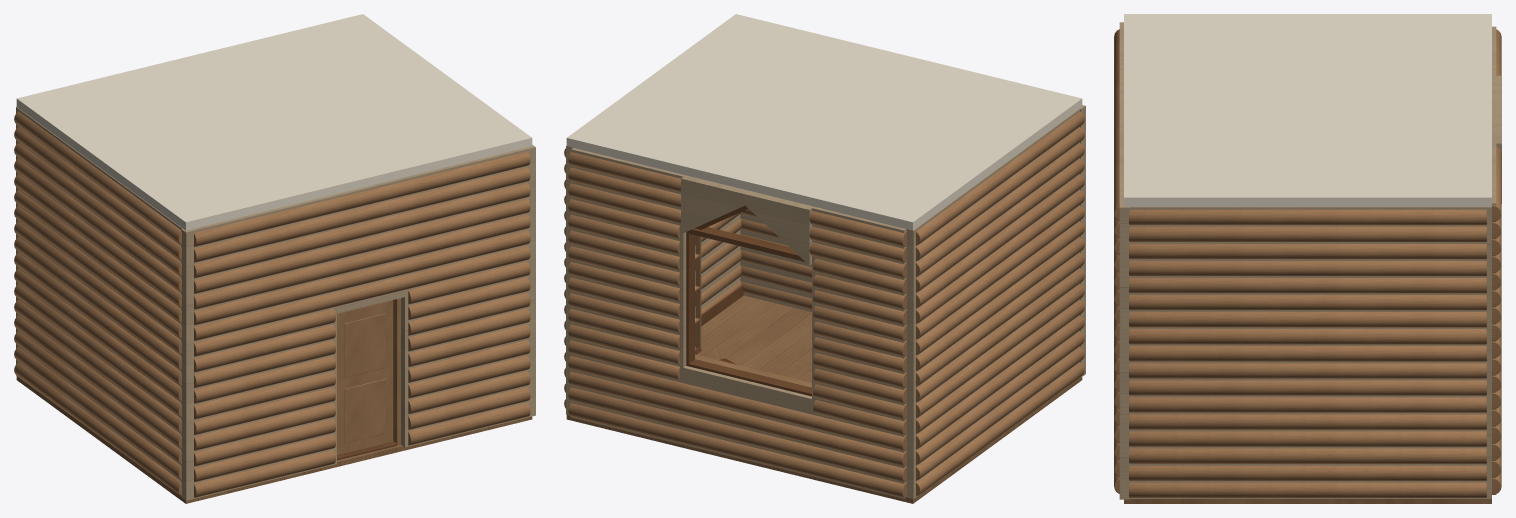
File: woodland-study.glb
3 views of the same model, side by side, from view 1: azimuth 30°, elevation 25°; view 2: azimuth 150°, elevation 25°; view 3: azimuth 270°, elevation 25° (orthographic). The views are drawn at different scales.
Visible parts, largest first — view 1: Study_Ceiling, Cabin_Door_Log.023, Cabin_Door_Log.008, Cabin_Door_Log.021, Study_DoorWall, Cabin_Door_Log.018, Study_DoorWall.001, Cabin_Door_Log.004, Cabin_Door_Log.014, Cabin_Door_Log, Cabin_Side_Log.026, Cabin_Side_Log.008 (+14 smaller); view 2: Study_Ceiling, Cabin_Window_Log, Cabin_Window_Log.002, Study_Floor, Cabin_Side_Log.008, Cabin_Side_Log.026, Study_SideWall, Study_WindowWallSide.001, Cabin_Side_Log, Cabin_Side_Log.014, Cabin_Side_Log.018, Cabin_Side_Log.022 (+31 smaller); view 3: Study_Ceiling, Cabin_Side_Log.027, Cabin_Side_Log.009, Study_SideWall.001, Cabin_Side_Log.005, Cabin_Side_Log.015, Cabin_Side_Log.019, Cabin_Side_Log.023, Cabin_Side_Log.001, Cabin_Side_Log.033, Study_DoorWall.001, Study_Floor (+5 smaller).
Boxes of the visible parts, x1,y1,x2,y2 form: Study_Ceiling: (16,14,532,230); Cabin_Door_Log.023: (194,167,530,293); Cabin_Door_Log.008: (194,308,530,435); Cabin_Door_Log.021: (194,214,530,325); Study_DoorWall: (181,194,336,500); Cabin_Door_Log.018: (194,245,530,356); Study_DoorWall.001: (401,145,535,447); Cabin_Door_Log.004: (194,355,530,466); Cabin_Door_Log.014: (194,277,530,388); Cabin_Door_Log: (194,387,530,497); Cabin_Side_Log.026: (14,127,181,291); Cabin_Side_Log.008: (14,268,181,433); Study_Ceiling: (566,14,1082,230); Cabin_Window_Log: (568,386,906,497); Cabin_Window_Log.002: (568,355,906,466); Study_Floor: (566,295,1082,503); Cabin_Side_Log.008: (916,268,1084,433); Cabin_Side_Log.026: (916,127,1084,292); Study_SideWall: (906,109,1079,499); Study_WindowWallSide.001: (571,148,686,444); Cabin_Side_Log: (916,347,1084,496); Cabin_Side_Log.014: (916,237,1084,386); Cabin_Side_Log.018: (916,206,1084,355); Cabin_Side_Log.022: (916,174,1084,323); Study_Ceiling: (1124,14,1491,206); Cabin_Side_Log.027: (1129,226,1486,276); Cabin_Side_Log.009: (1129,380,1486,429); Study_SideWall.001: (1124,207,1491,498); Cabin_Side_Log.005: (1129,431,1486,463); Cabin_Side_Log.015: (1129,346,1486,378); Cabin_Side_Log.019: (1129,312,1486,344); Cabin_Side_Log.023: (1129,278,1486,310); Cabin_Side_Log.001: (1129,465,1486,497); Cabin_Side_Log.033: (1129,209,1486,225); Study_DoorWall.001: (1119,138,1129,499); Study_Floor: (1124,499,1491,503).
Size of the model in its own units: 5.35 by 4.04 by 4.64.
19 materials, 12 textured.
